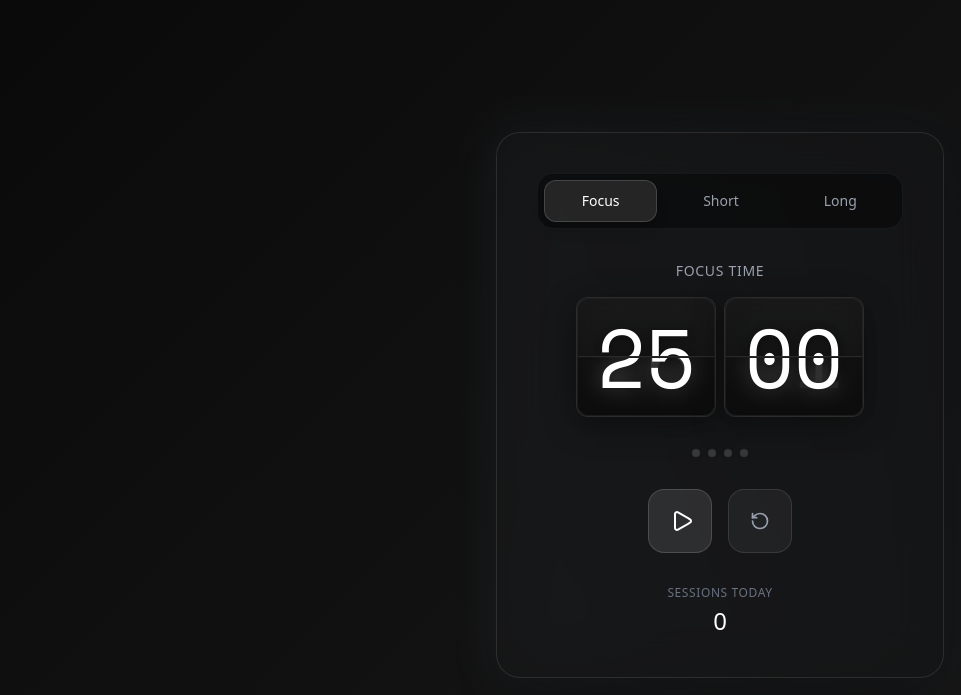
Test: Feature: Pomodoro Timer › Scenario: Starting a focus session › Given the timer is not running, When the user starts a Pomodoro, Then the timer should count down from 25 minutes and session should be marked as "focus" mode
Expected: the element showing "25 26 26 25 00 01 01 00" is shown, x1=576 y1=297 x2=864 y2=417
Expected: the element named "minutes: 25" is shown, x1=576 y1=297 x2=716 y2=417
Click the button named "play": coordinates (680, 521) x1=648 y1=489 x2=712 y2=553
Wait 1000 ms
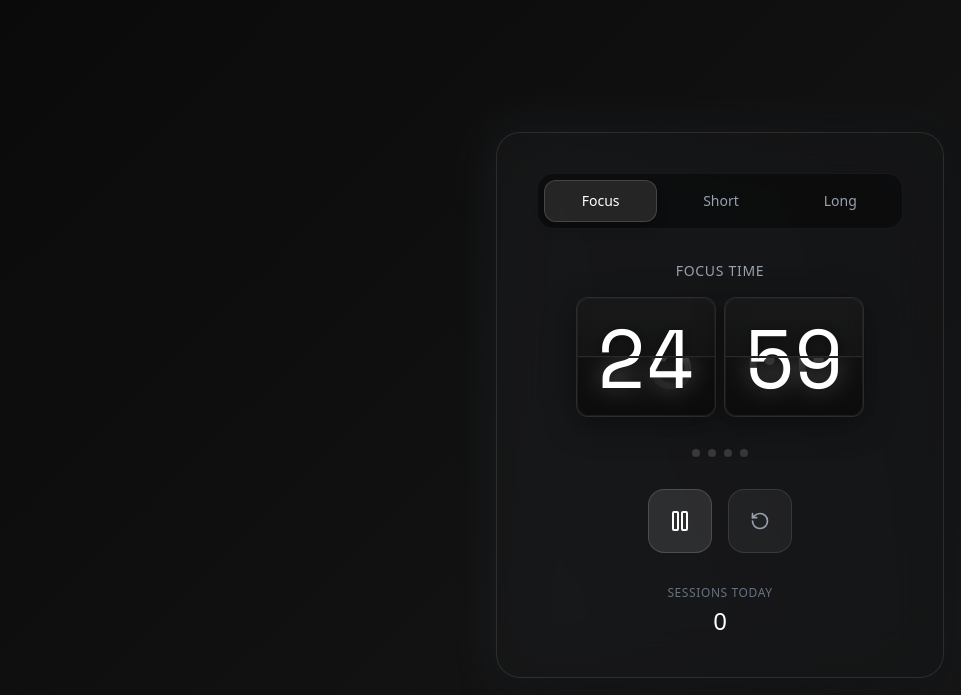
Now the element named "minutes: 24" is shown, box x1=576 y1=297 x2=716 y2=417
Now the element named "seconds: 59" is shown, box x1=724 y1=297 x2=864 y2=417
